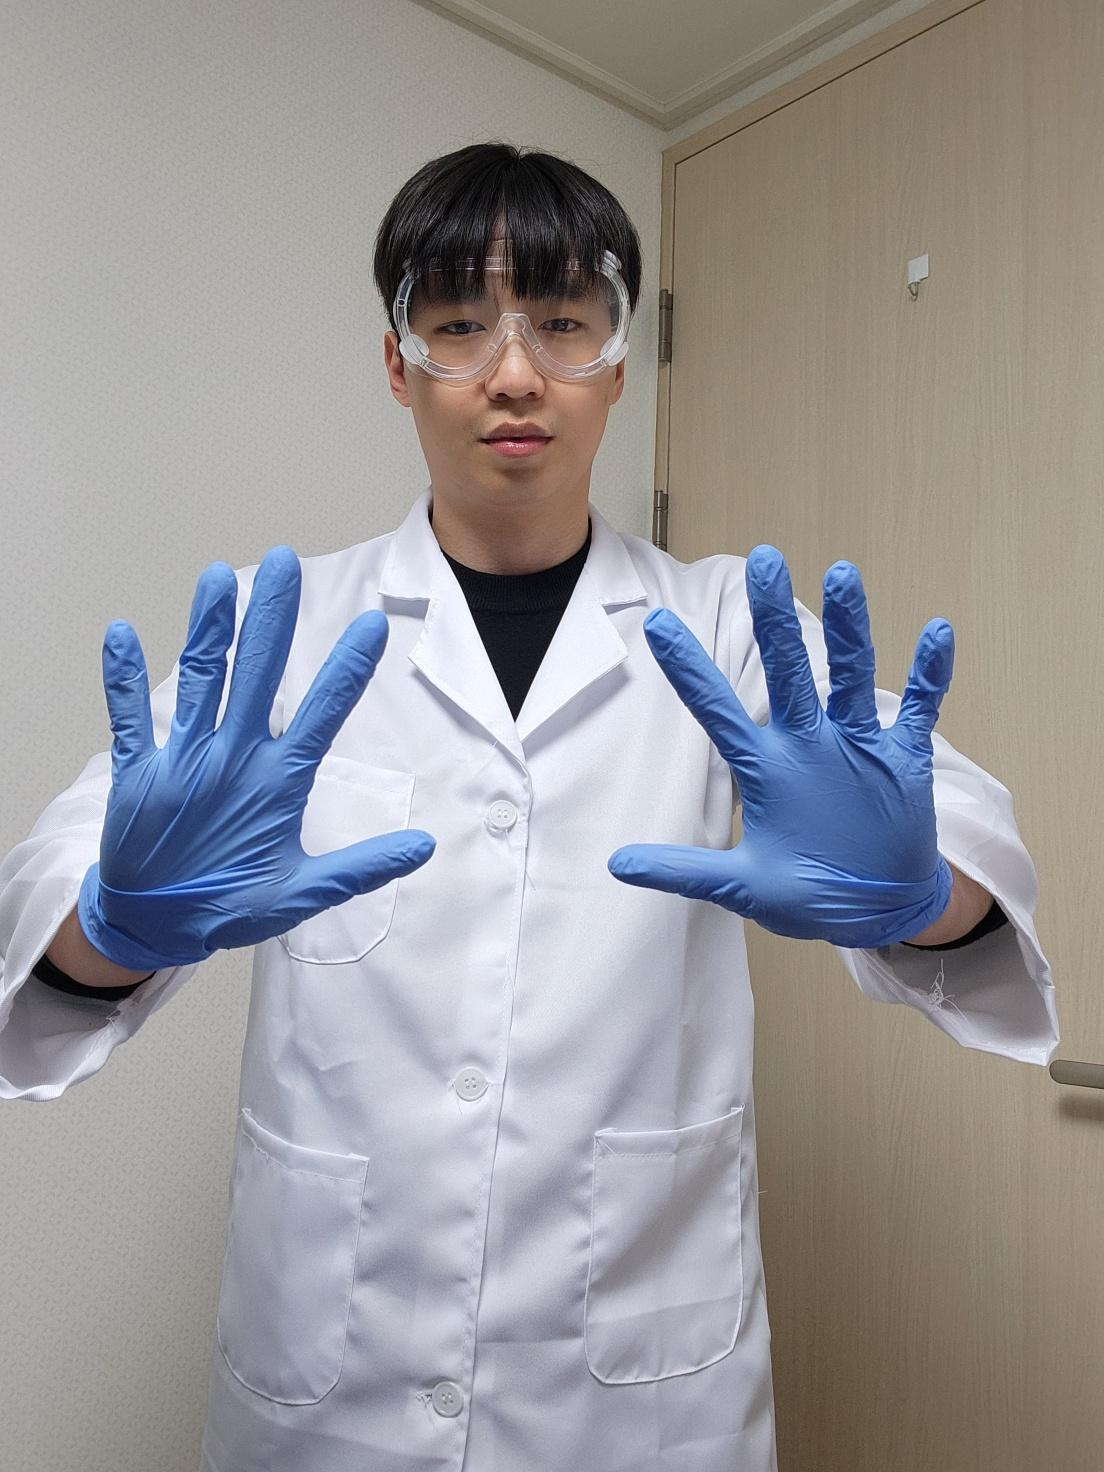lab_coat: (202, 486, 776, 1471)
